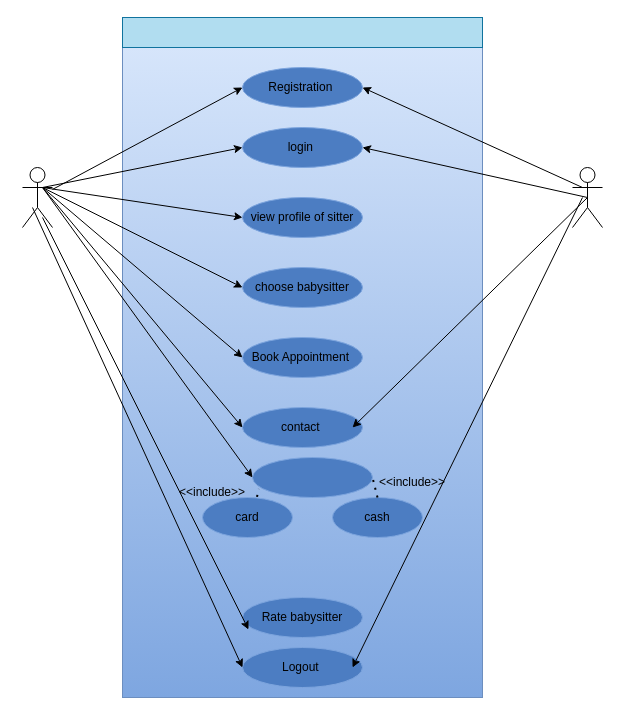
This 631x715 diagram has some shape labels left out. Here are the shapes that lost their labels. From the top down, the centre of each, then its label:
pixel 302 32: Babysitter Management System
pixel 37 197: Parents
pixel 587 197: Babysitter
pixel 312 477: Make Payment
